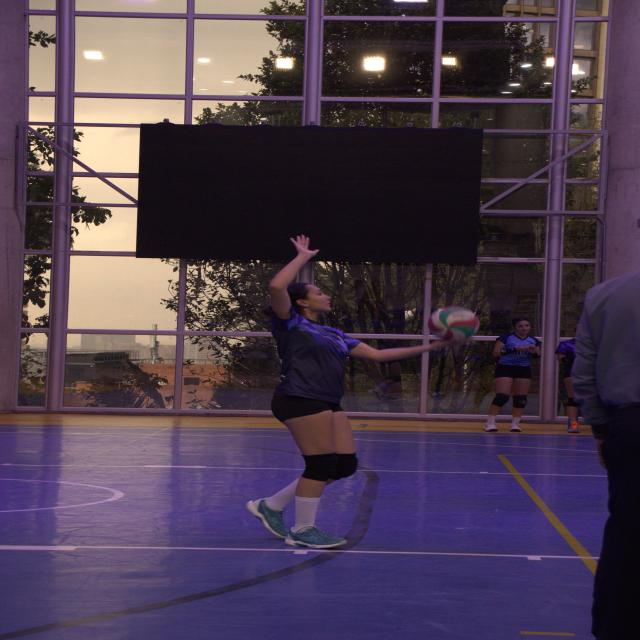volleyball: (426, 309, 479, 341)
